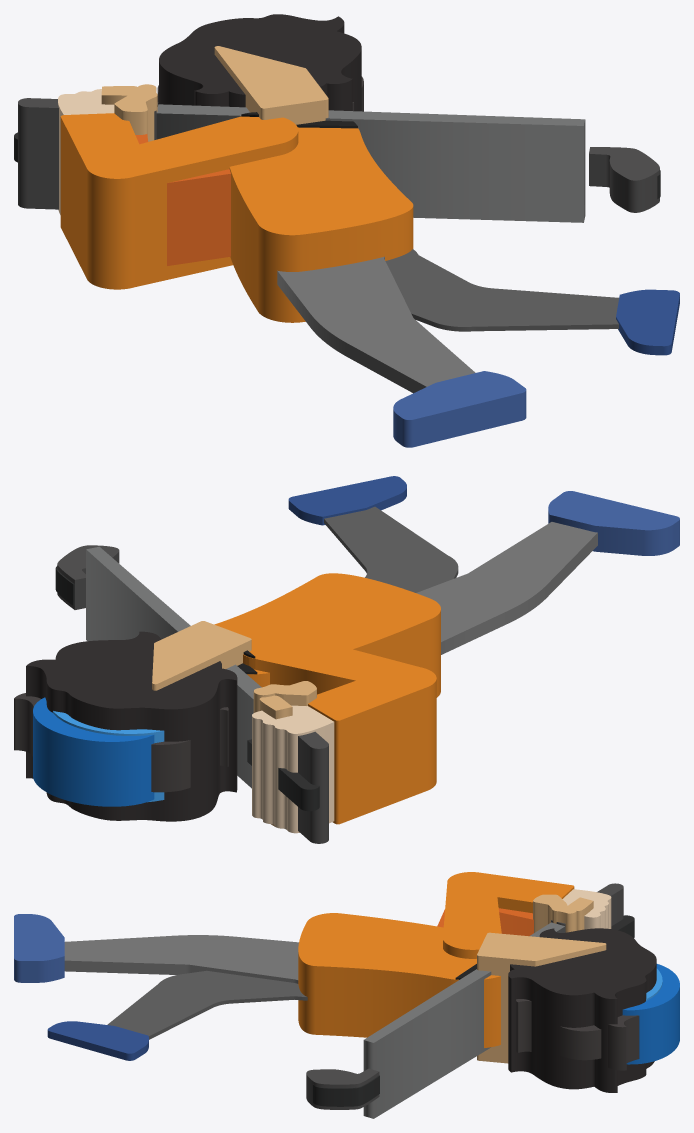
Rendered from emoji_u1f3cc_1f3fb.glb.
3 renders of one model, top to bottom at view 1: azimuth 30°, elevation 25°; view 2: azimuth 150°, elevation 25°; view 3: azimuth 270°, elevation 25°, orthographic. The views are drawn at different scales.
Visible parts, largest first — view 1: emoji_u1f3cc_1f3fb; view 2: emoji_u1f3cc_1f3fb; view 3: emoji_u1f3cc_1f3fb.
Part boxes in pixels (x1=…): emoji_u1f3cc_1f3fb: x1=14, y1=14, x2=679, y2=447; emoji_u1f3cc_1f3fb: x1=14, y1=476, x2=679, y2=843; emoji_u1f3cc_1f3fb: x1=14, y1=872, x2=679, y2=1118.
Bounding box in the file's own units: 0.0216 × 0.0058 × 0.0334.
